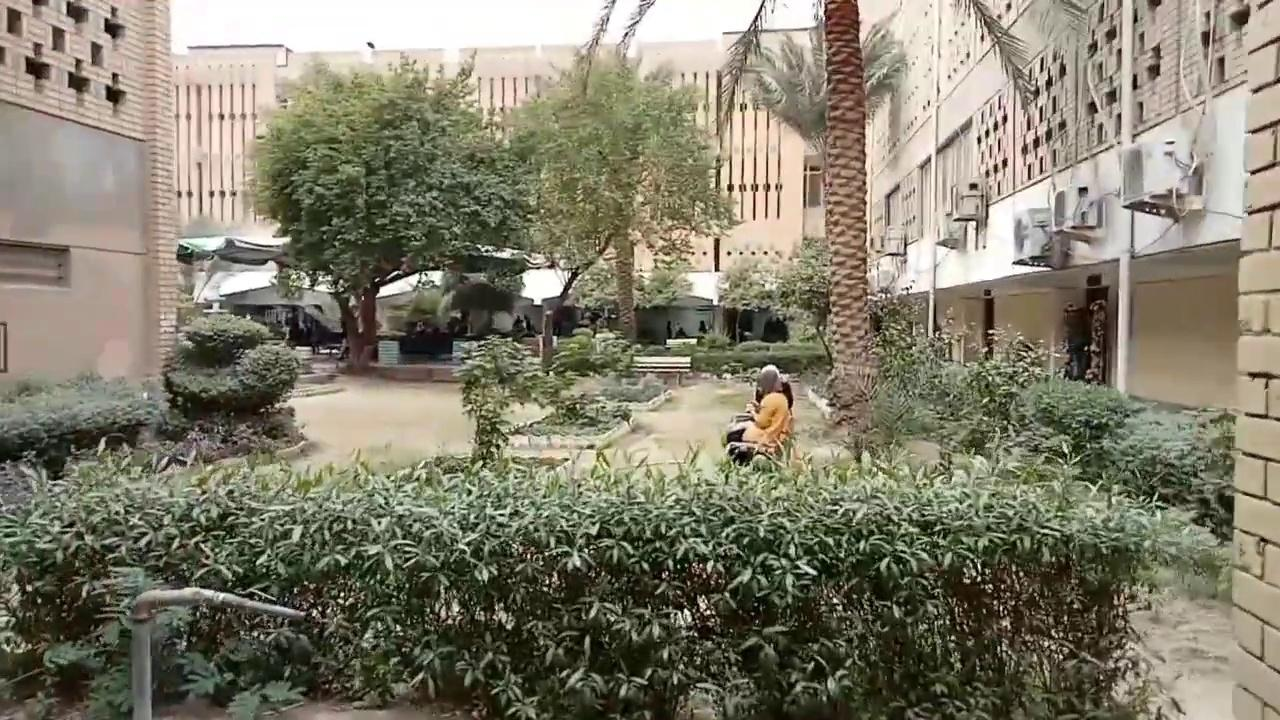person: (724, 364, 792, 466), (674, 323, 687, 337), (698, 319, 707, 335), (666, 319, 673, 338)
tree: (0, 463, 1163, 720), (565, 0, 1051, 442), (243, 49, 535, 370), (730, 1, 909, 434), (501, 50, 741, 344), (1, 371, 167, 474), (160, 306, 299, 417), (452, 332, 547, 470)
